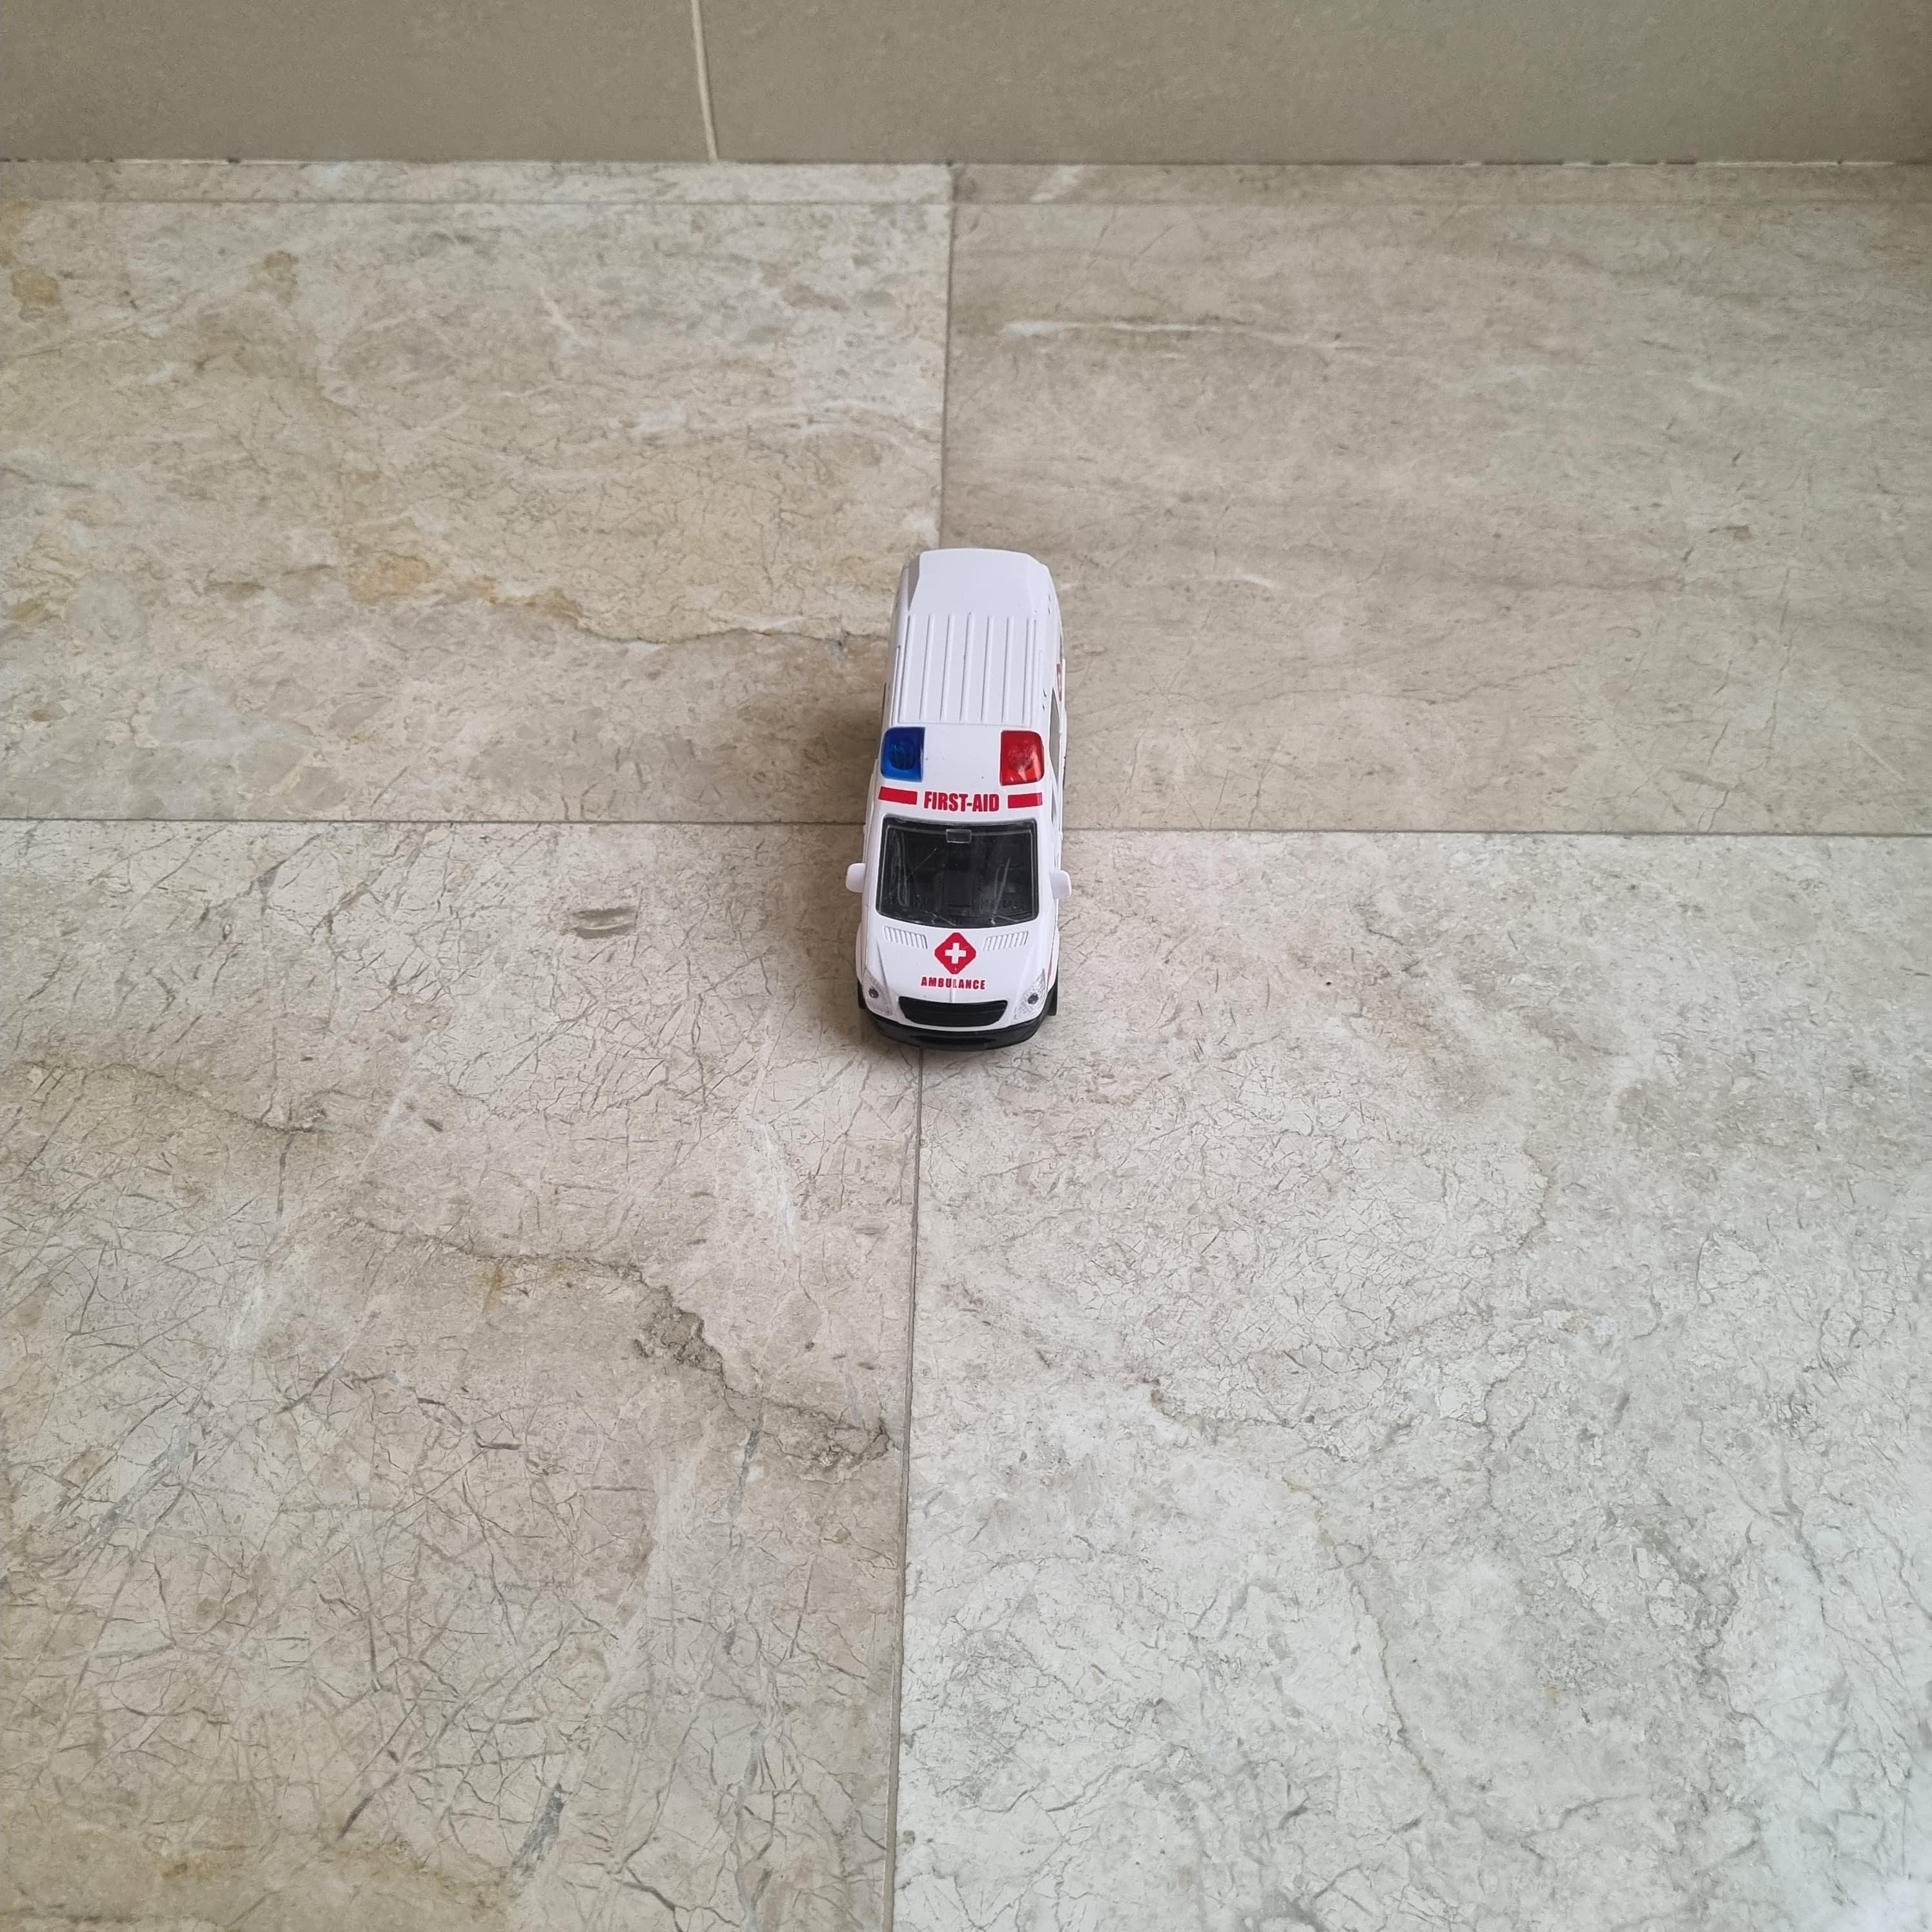ambulance_off: (844, 550, 1079, 1049)
